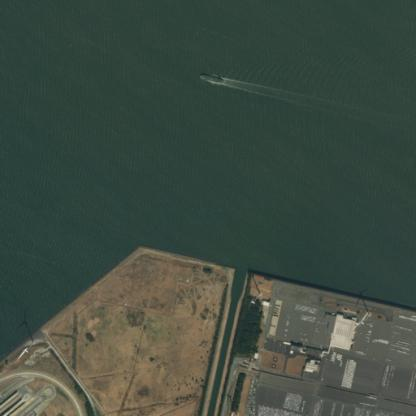ship: (199, 74, 223, 82)
